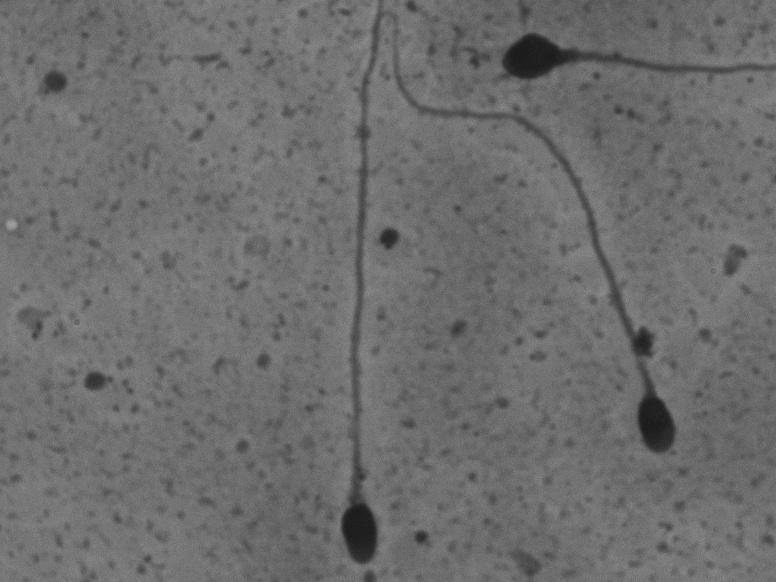Abnormal: (315, 9, 394, 570), (482, 8, 760, 97)
Normal: (383, 4, 695, 462)
